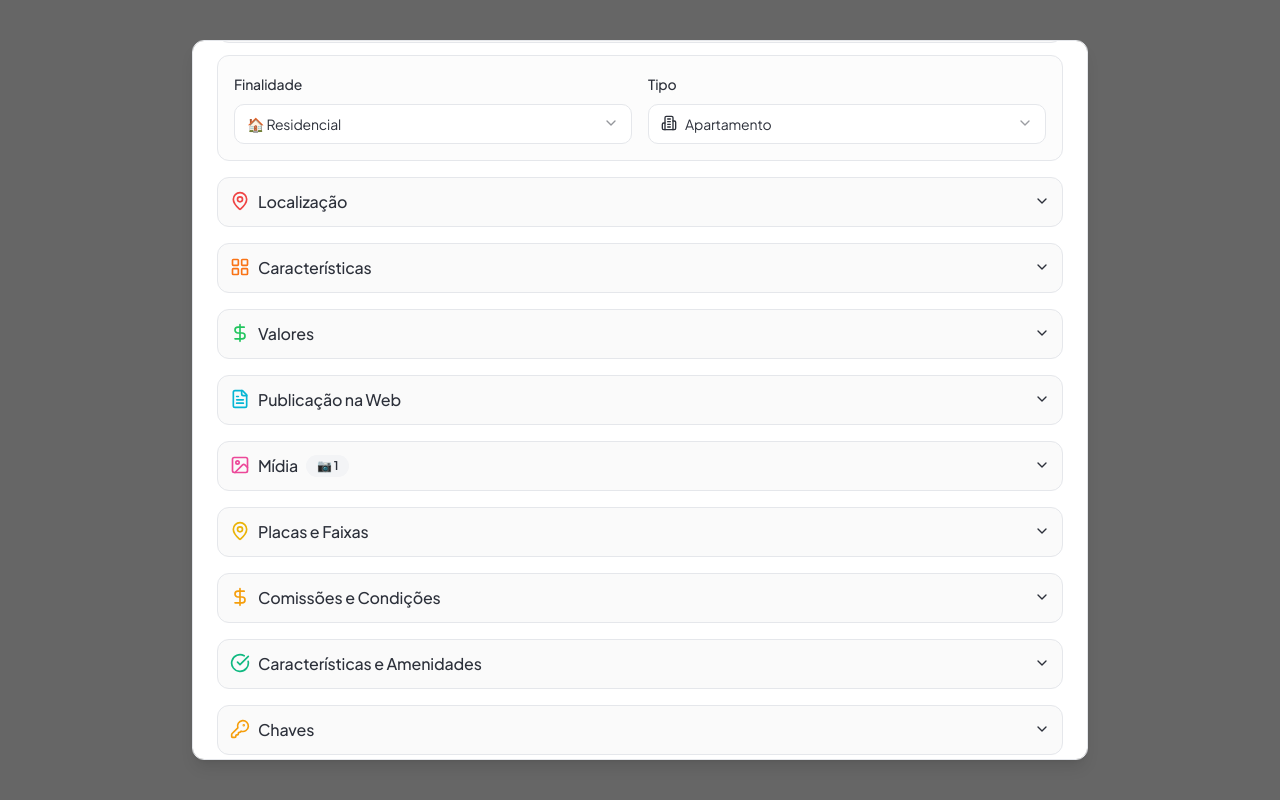
Test case: CriarImovelForm — rascunho › sem permissão para ver o proprietário: nada dele na tela nem no payload
(page scrolled)
Click the button "Publicação na Web" at (330, 400), box [217,375,1063,425]
(page scrolled)
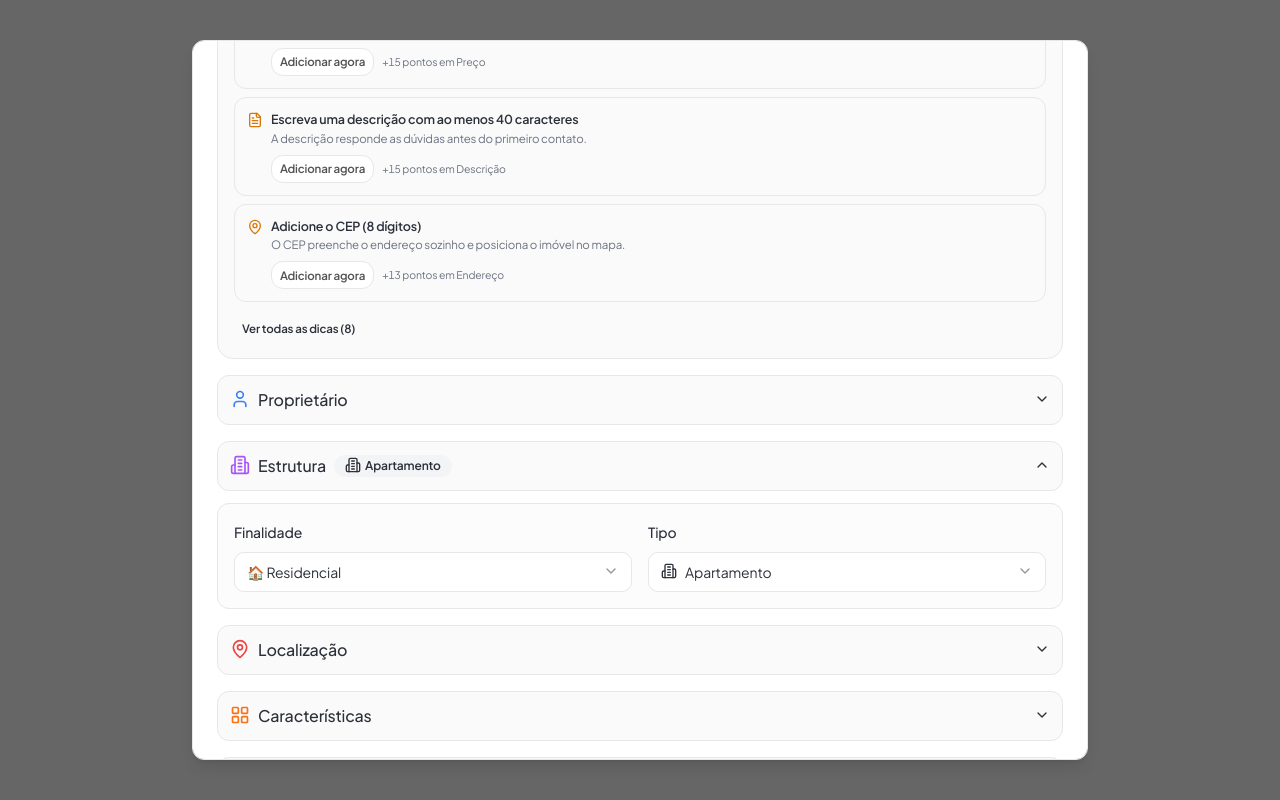
Click the button "Proprietário" at (303, 400), box [217,375,1063,425]
(page scrolled)
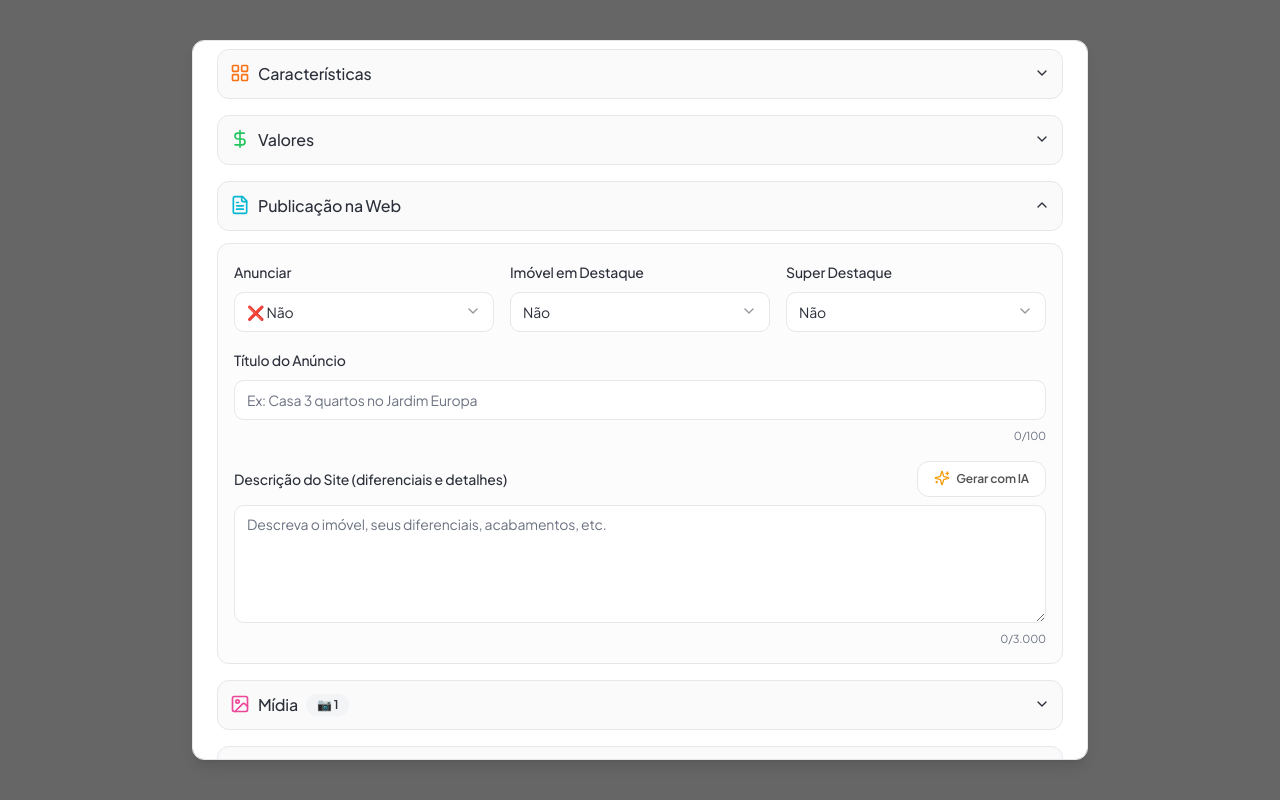
Type "Editado por quem não vê o dono" into the field with placeholder "Ex: Casa 3 quartos no Jardim Europa" at (640, 400), box [234,380,1046,420]
Wait 5000 ms
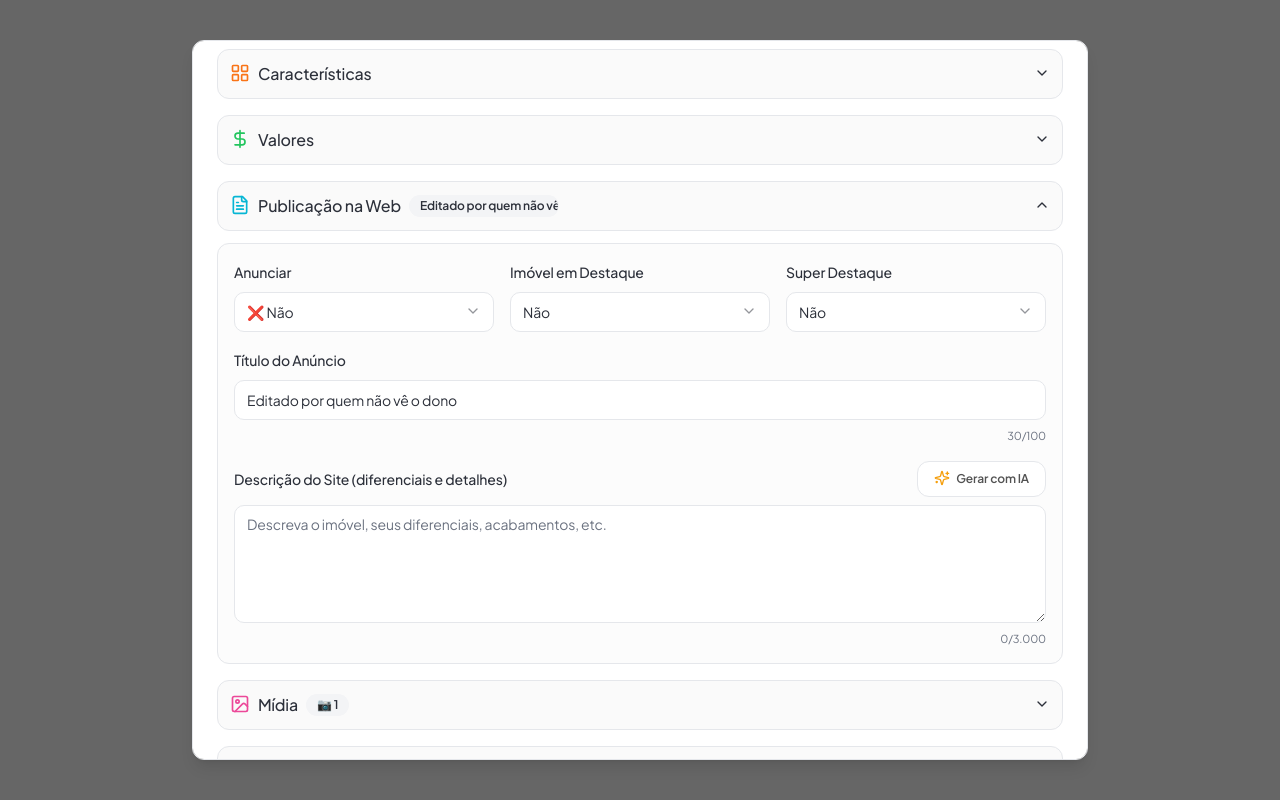
Check: the text "Editado por quem não vê o dono" is shown, box [409,195,559,217]
